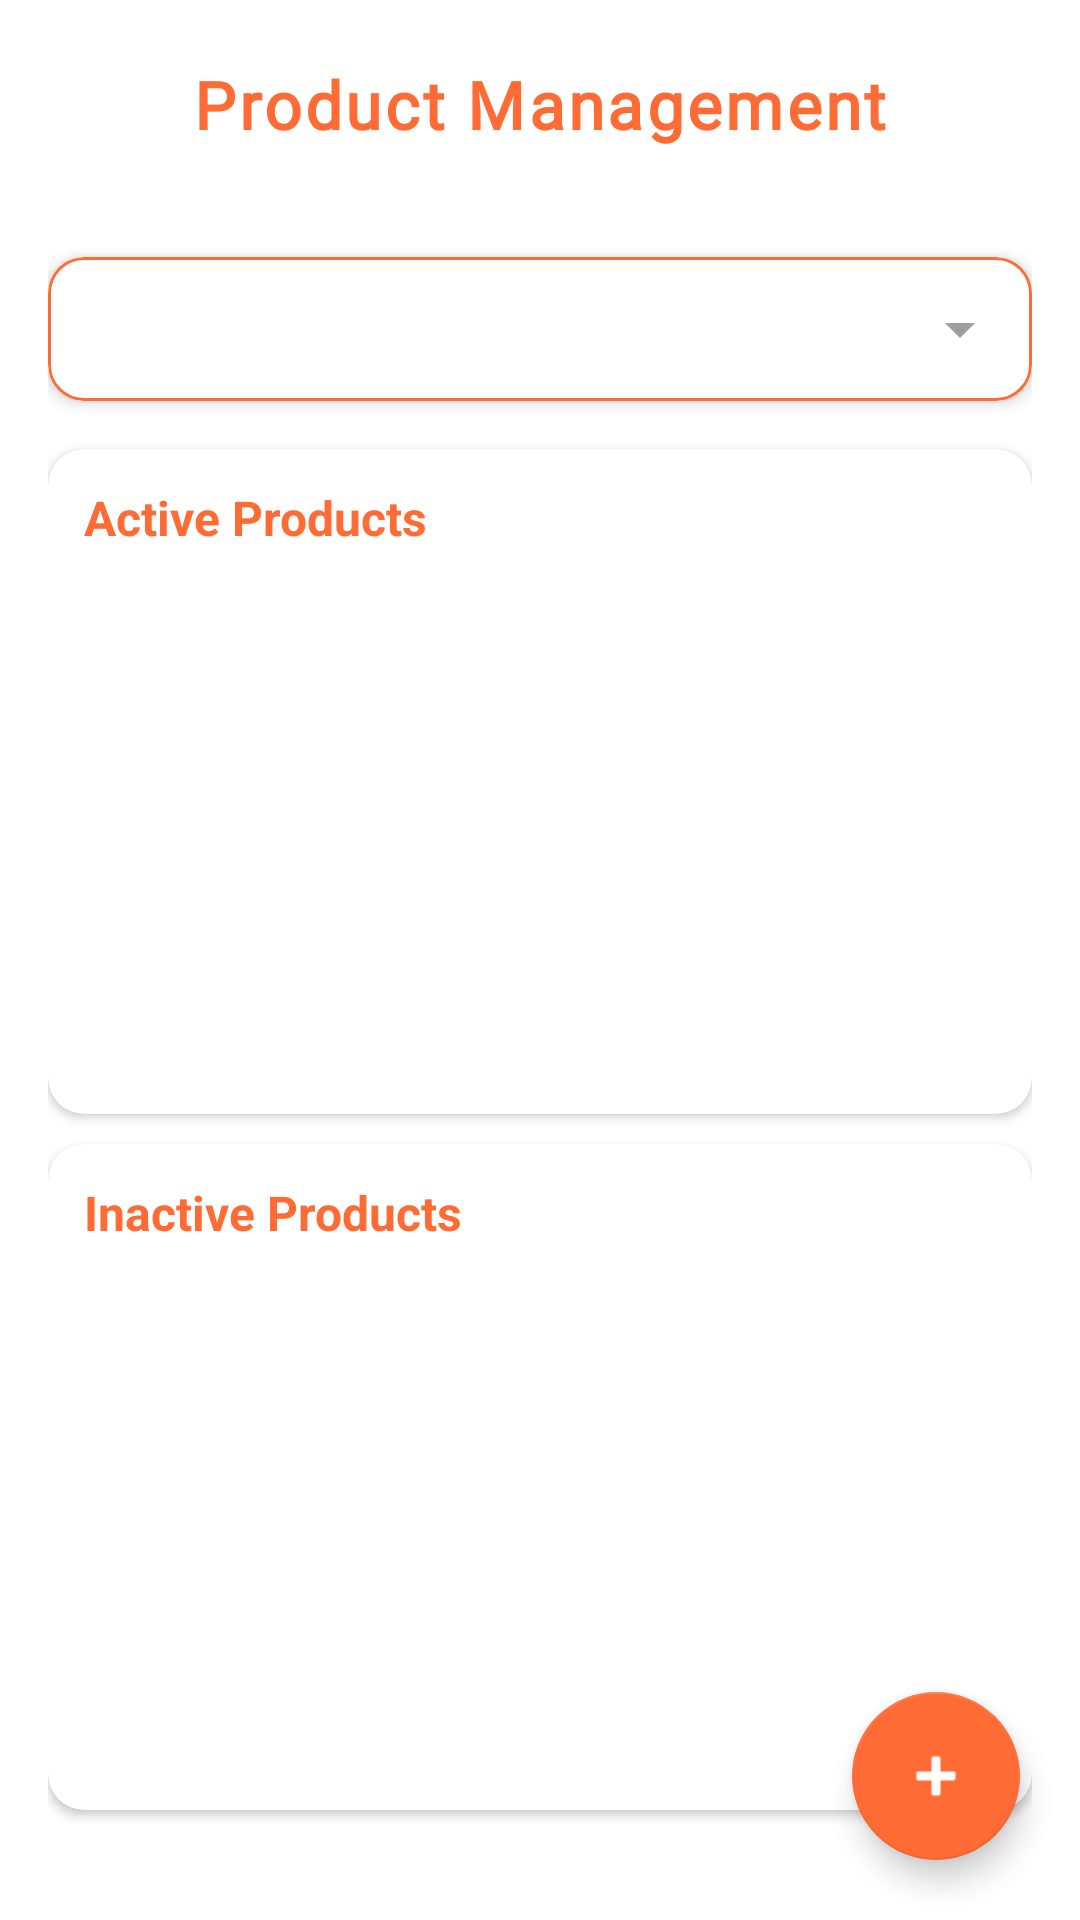

Screen size 1080x1920. Icon name, then its box in pixels as (x1, y1, x2, y2):
Add Product: (852, 1692, 1020, 1860)
